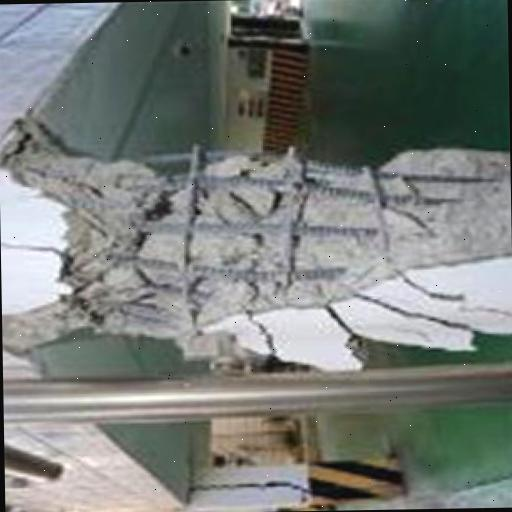spalling: (12, 149, 510, 338)
